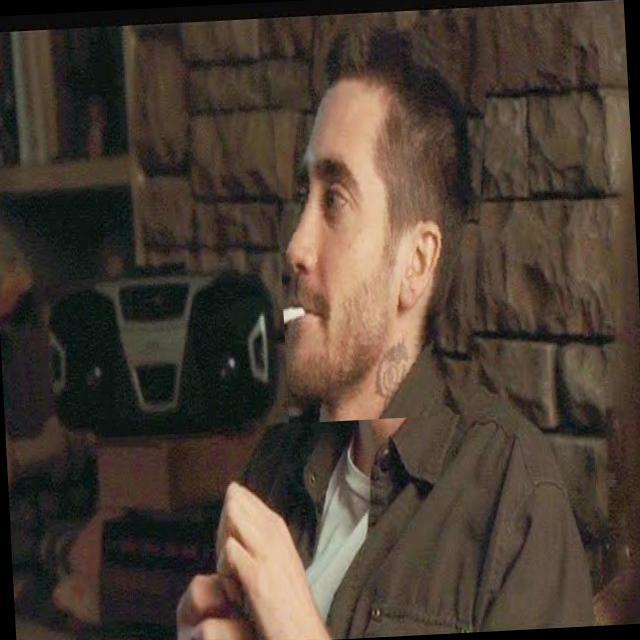cigarette: (302, 280, 341, 333)
